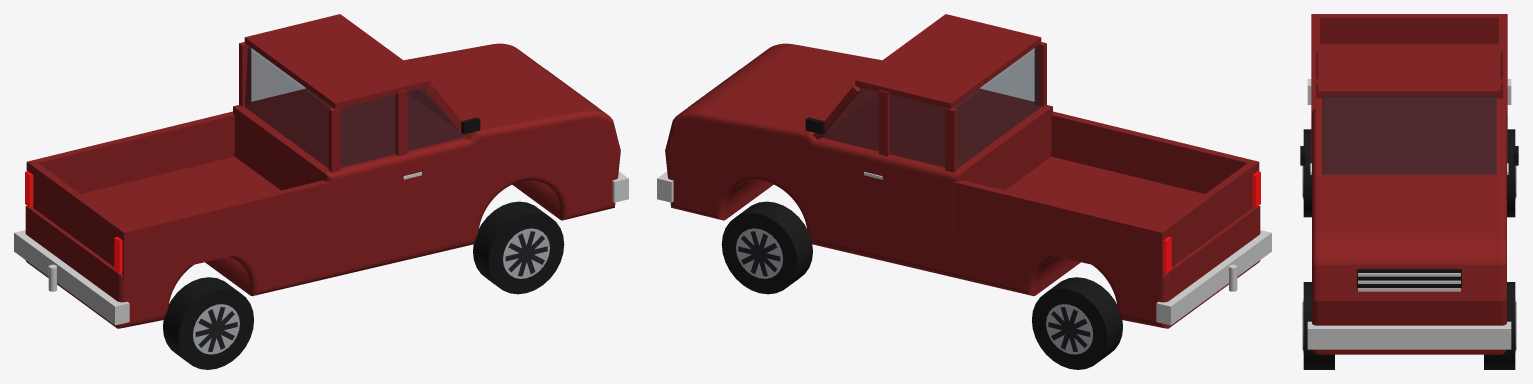
Rendered from truck.glb.
3 renders of one model, left to right at view 1: azimuth 30°, elevation 25°; view 2: azimuth 150°, elevation 25°; view 3: azimuth 270°, elevation 25°, orthographic.
Parts seen in each view (by area): view 1: vehicle_truck; view 2: vehicle_truck; view 3: vehicle_truck.
Part boxes in pixels (x1=…): vehicle_truck: x1=14, y1=14, x2=628, y2=369; vehicle_truck: x1=657, y1=14, x2=1271, y2=369; vehicle_truck: x1=1300, y1=14, x2=1518, y2=369.
Bounding box in the file's own units: 5.87 × 2.43 × 2.08.
